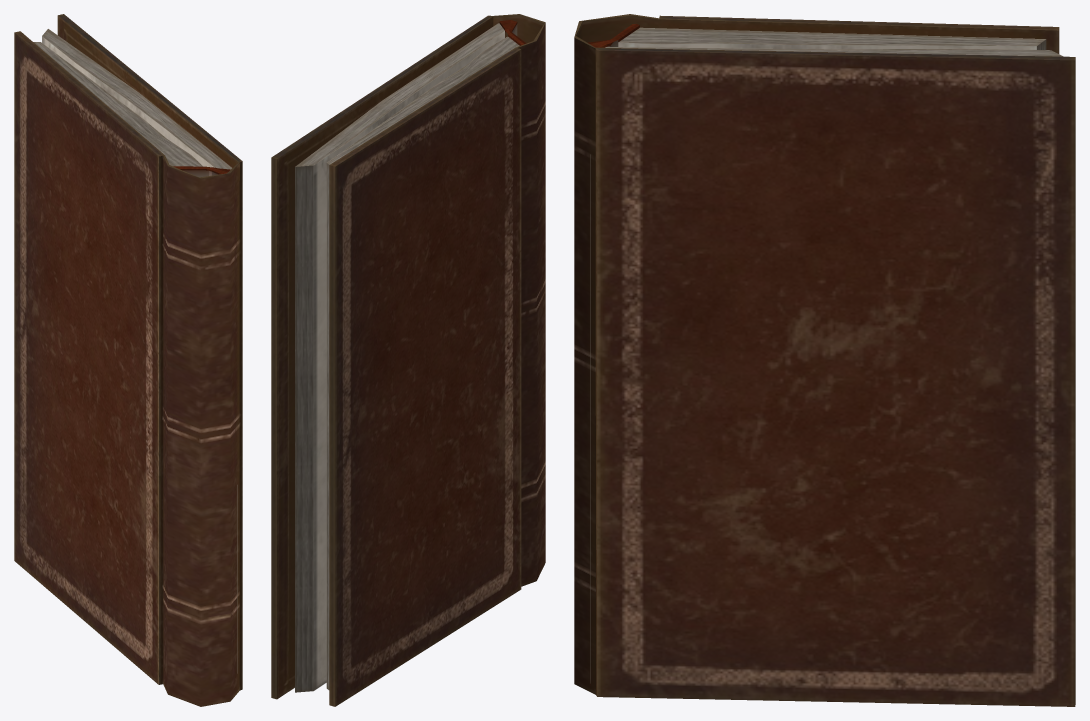
The model's file is Book3.fbx.
3 renders of one model, left to right at view 1: azimuth 30°, elevation 25°; view 2: azimuth 150°, elevation 25°; view 3: azimuth 270°, elevation 25°, orthographic. The views are drawn at different scales.
Visible parts, largest first — view 1: Book_02_low; view 2: Book_02_low; view 3: Book_02_low.
Boxes of the visible parts, x1,y1,x2,y2 form: Book_02_low: (14, 14, 242, 706); Book_02_low: (271, 14, 545, 706); Book_02_low: (574, 14, 1075, 706).
Size of the model in its own units: 2.64 by 17.14 by 12.05.
